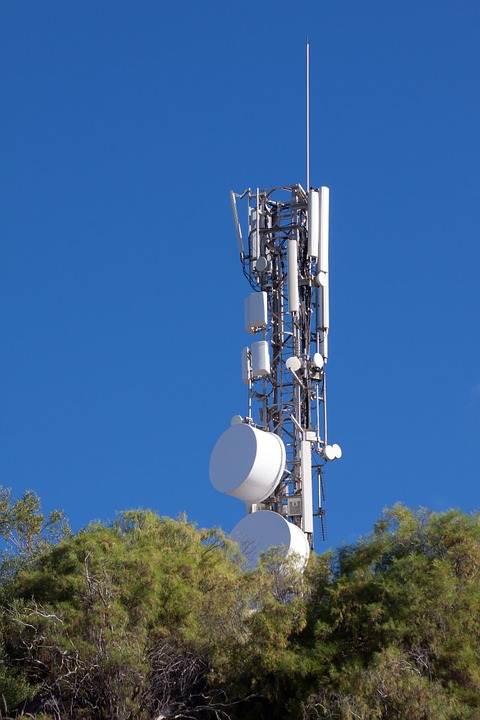a: (301, 438, 315, 537), (318, 186, 330, 272), (317, 287, 330, 362), (287, 239, 298, 314), (250, 338, 270, 378), (307, 189, 318, 257), (249, 292, 267, 330), (241, 346, 253, 384), (257, 256, 266, 272)
b: (207, 423, 284, 504), (285, 357, 303, 371), (321, 447, 335, 460), (312, 353, 321, 369)
